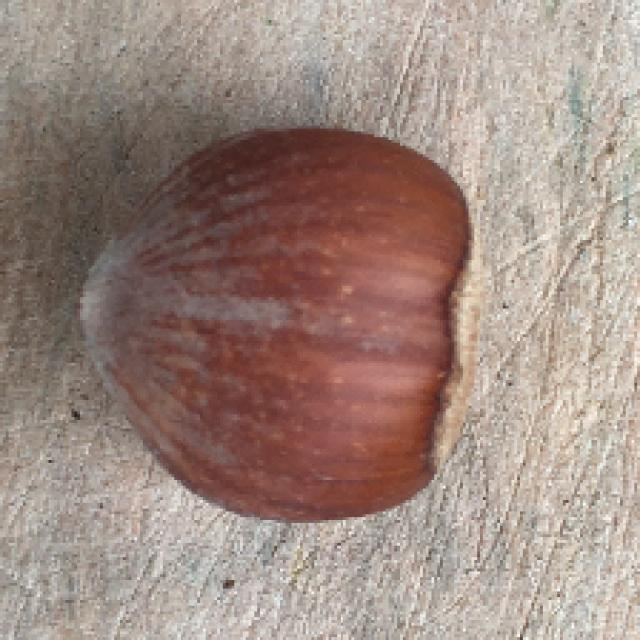qualityHazelnut: (74, 121, 499, 528)
